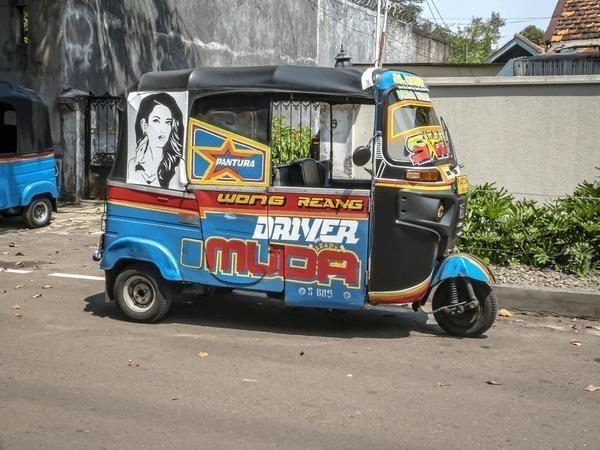keke: (93, 42, 500, 352)
